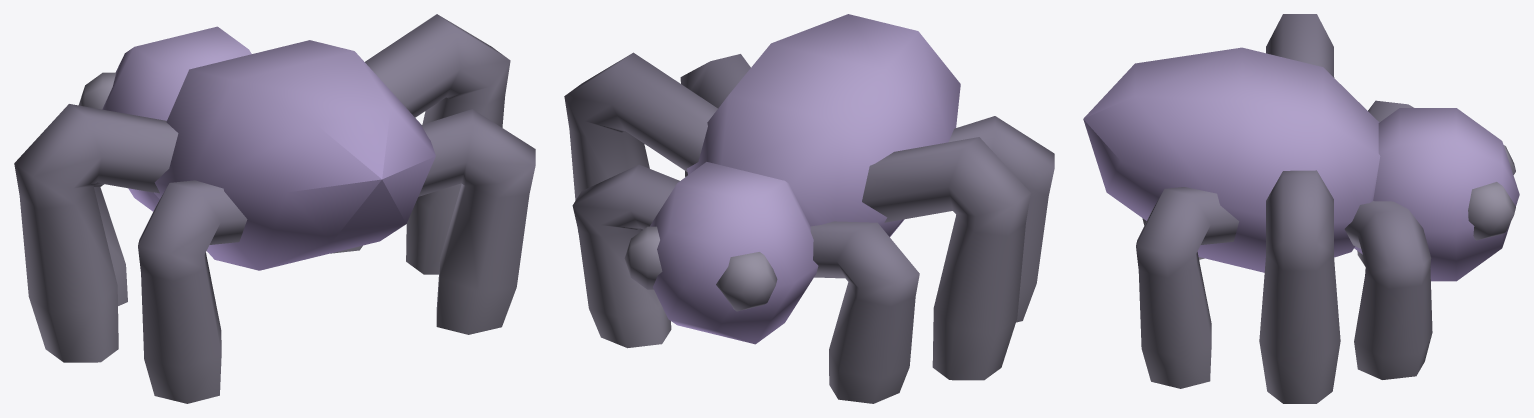
Rendered from spider.glb.
The picture shows the model from 3 angles, left to right: view 1: azimuth 30°, elevation 25°; view 2: azimuth 150°, elevation 25°; view 3: azimuth 270°, elevation 25°; orthographic projection. The views are drawn at different scales.
Parts seen in each view (by area): view 1: spider; view 2: spider; view 3: spider.
Boxes of the visible parts, x1,y1,x2,y2 form: spider: (14, 14, 535, 403); spider: (564, 14, 1054, 403); spider: (1083, 14, 1519, 403).
Size of the model in its own units: 0.2631 by 0.1384 by 0.2301.
